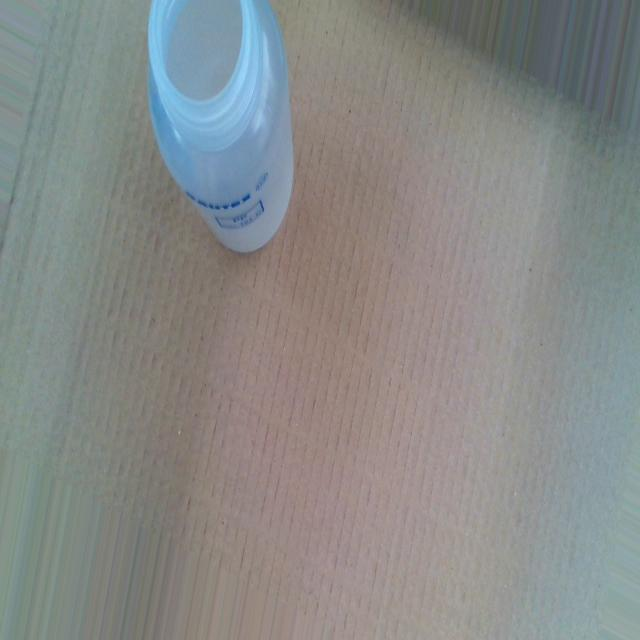bottle: (146, 2, 296, 259)
